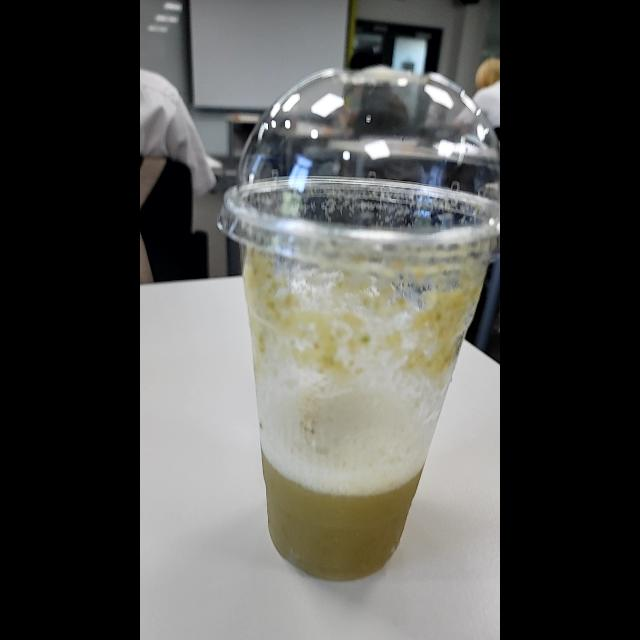plastic_cup: (212, 45, 500, 601)
plastic_cup_lid: (218, 61, 500, 275)
